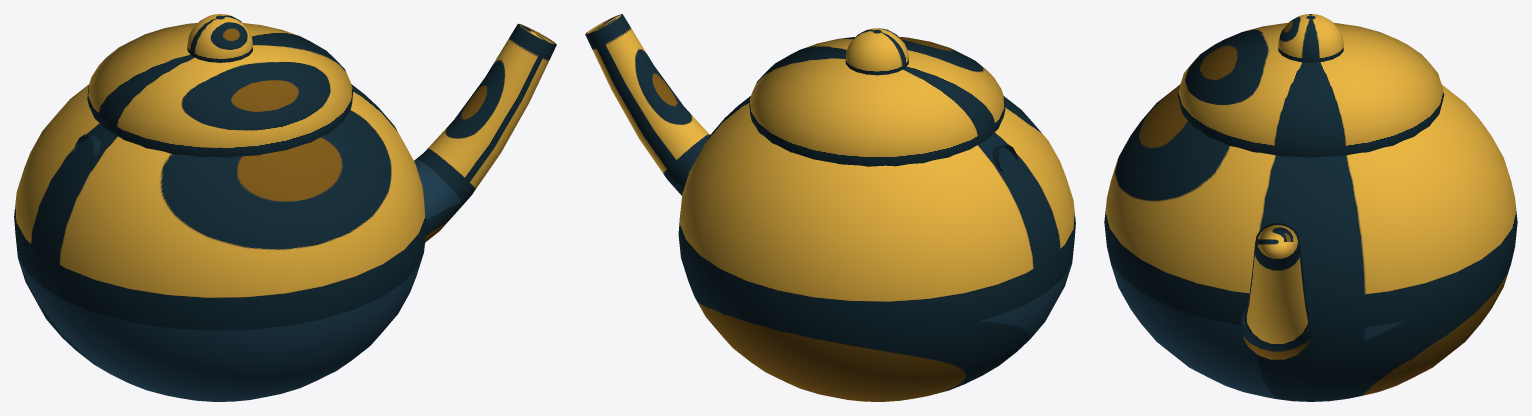
Rendered from teapot.obj.
3 renders of one model, left to right at view 1: azimuth 30°, elevation 25°; view 2: azimuth 150°, elevation 25°; view 3: azimuth 270°, elevation 25°, orthographic. The views are drawn at different scales.
Visible parts, largest first — view 1: Teapot; view 2: Teapot; view 3: Teapot.
Part boxes in pixels (bbox=[...]): Teapot: bbox=[14, 14, 556, 401]; Teapot: bbox=[585, 14, 1075, 401]; Teapot: bbox=[1104, 14, 1517, 401].
Bounding box in the file's own units: 1.72 × 1.2 × 1.24.
Materials: 1 (1 with a texture image).
